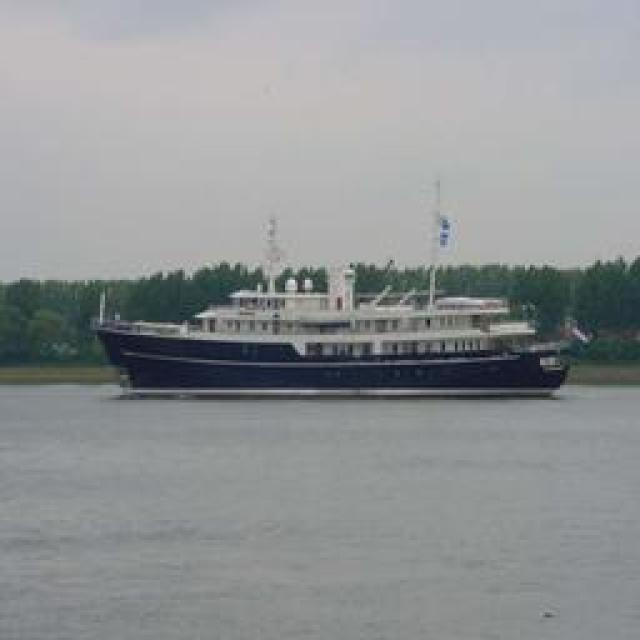CIV_Ship: (92, 248, 572, 396)
